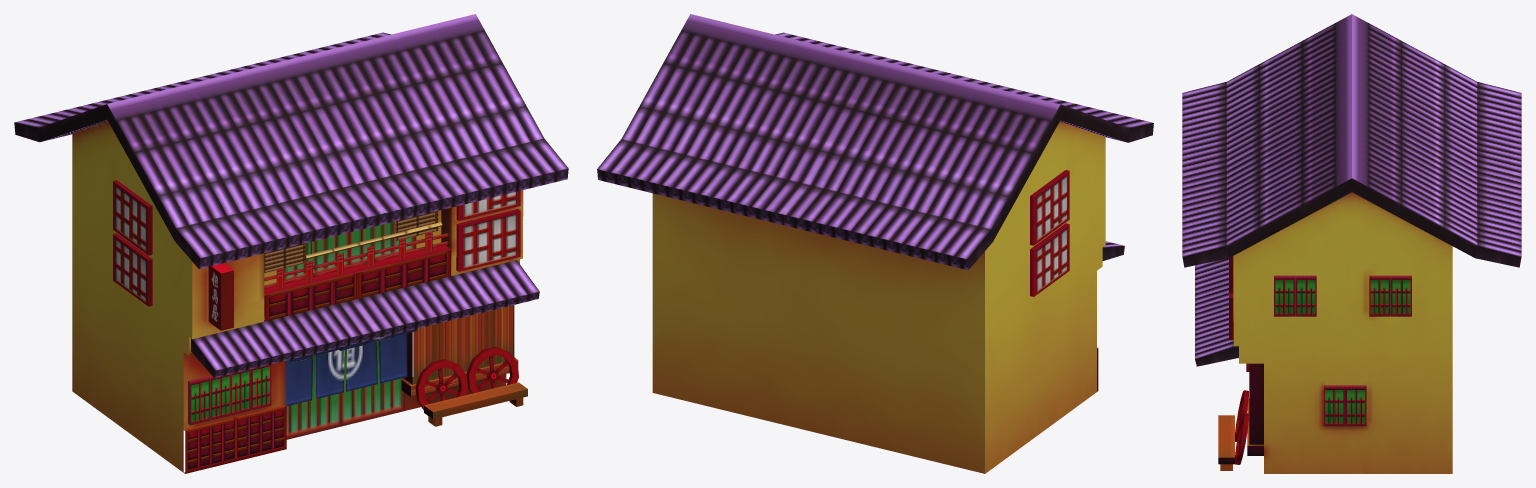
The model's file is house_06.FBX.
3 renders of one model, left to right at view 1: azimuth 30°, elevation 25°; view 2: azimuth 150°, elevation 25°; view 3: azimuth 270°, elevation 25°, orthographic. The views are drawn at different scales.
Parts seen in each view (by area): view 1: house06; view 2: house06; view 3: house06.
Boxes of the visible parts, bbox=[...] form: house06: bbox=[14, 14, 568, 473]; house06: bbox=[597, 14, 1153, 473]; house06: bbox=[1182, 14, 1521, 473].
Bounding box in the file's own units: 163911 × 141312 × 143008.
